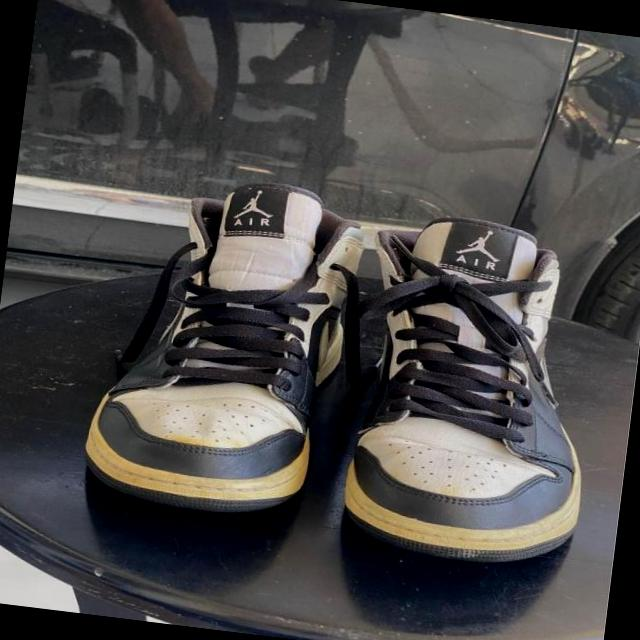nike_fake_jordan: (328, 202, 622, 579), (70, 158, 372, 524)
